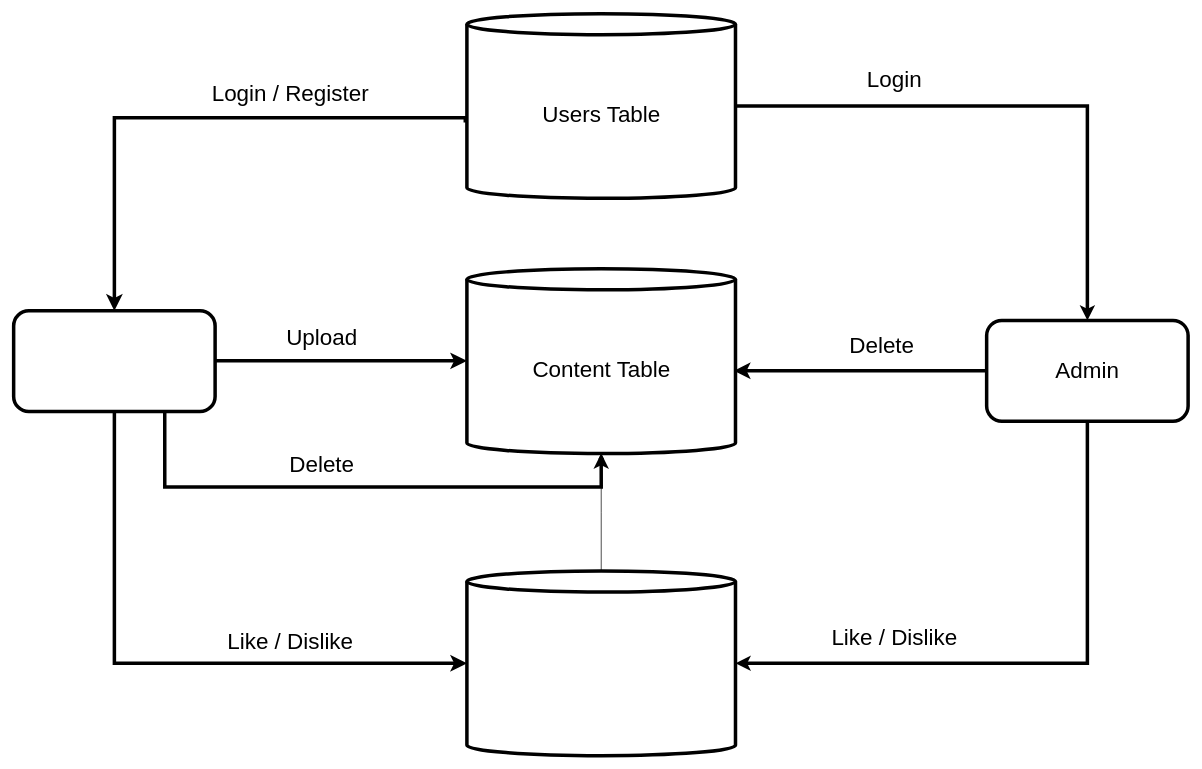
Image size: 1202x769. Some labels were removed from this diagram. Each missing label, with the box of its shape:
Actions Table: (465, 569, 737, 757)
User: (12, 309, 217, 413)
